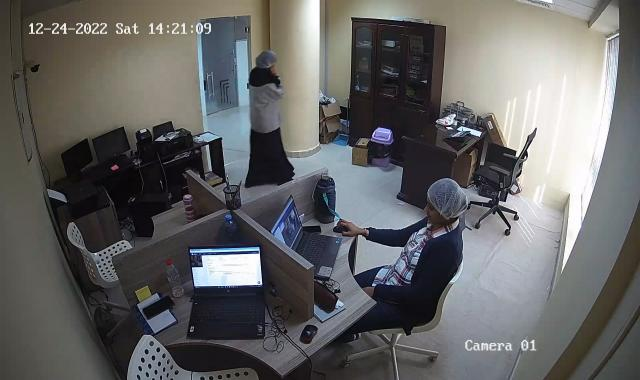hairnet: (421, 180, 466, 226), (253, 46, 276, 72)
